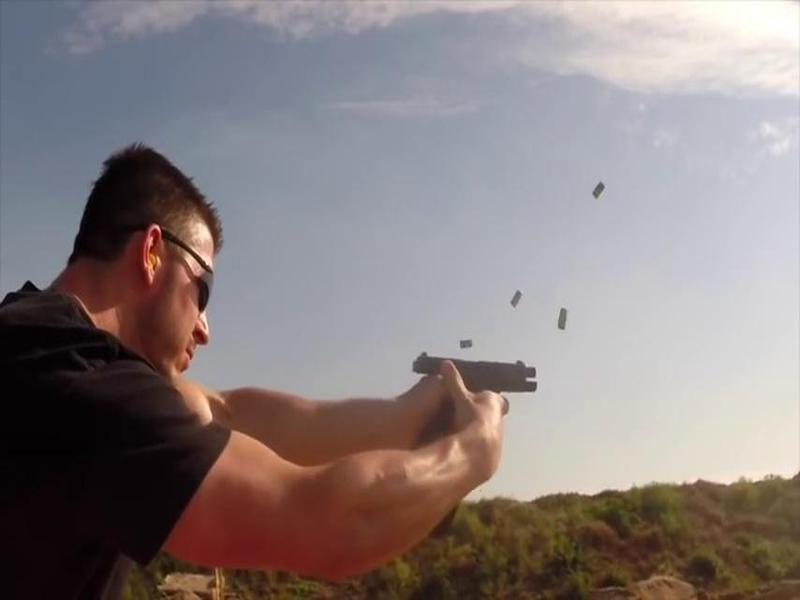Pistola: (409, 350, 539, 429)
